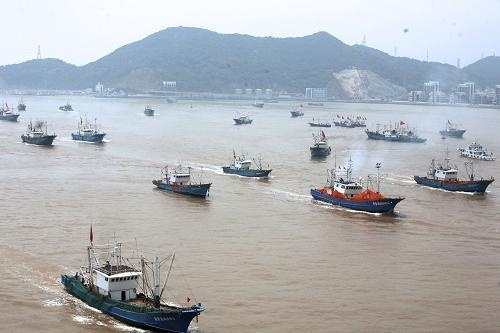otherboat: (59, 223, 207, 333), (308, 158, 402, 214), (411, 154, 496, 193), (148, 159, 212, 198), (219, 147, 275, 177), (363, 118, 426, 143), (19, 116, 58, 149), (458, 136, 497, 160), (305, 128, 332, 157), (71, 121, 109, 140), (441, 116, 469, 137), (232, 111, 256, 129), (309, 118, 333, 127), (290, 107, 304, 119), (144, 105, 156, 118)
